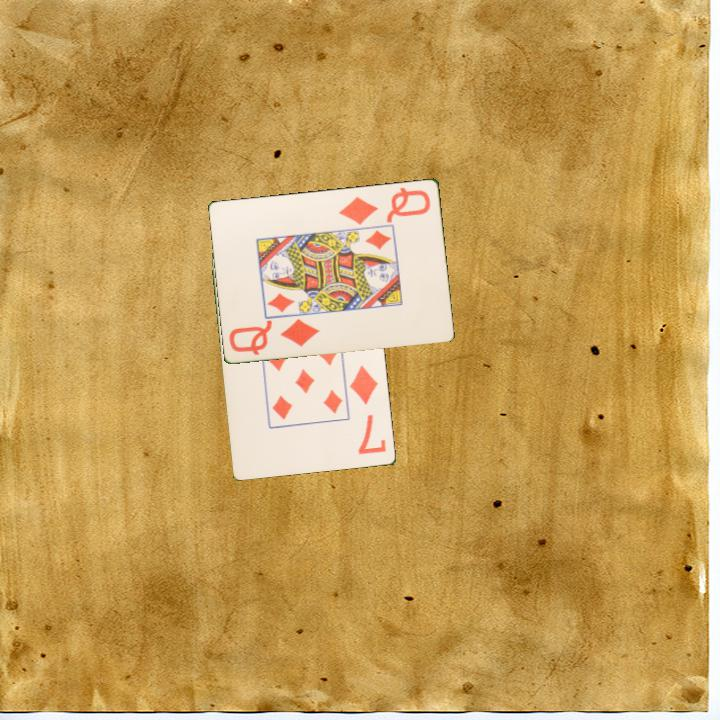7d: (346, 362, 389, 458)
Qd: (224, 315, 323, 358), (336, 184, 434, 227)
